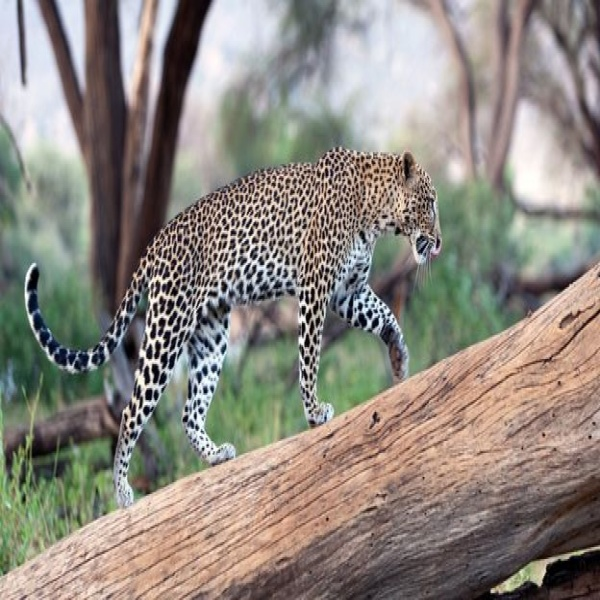Leopard: (21, 143, 447, 514)
